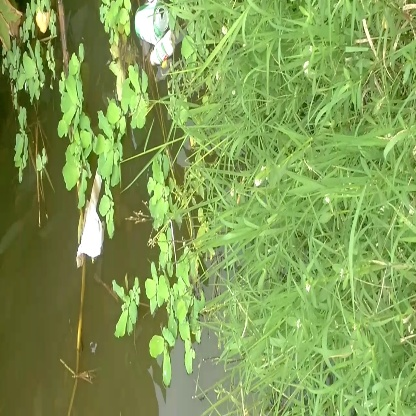bottle: (125, 2, 175, 45)
